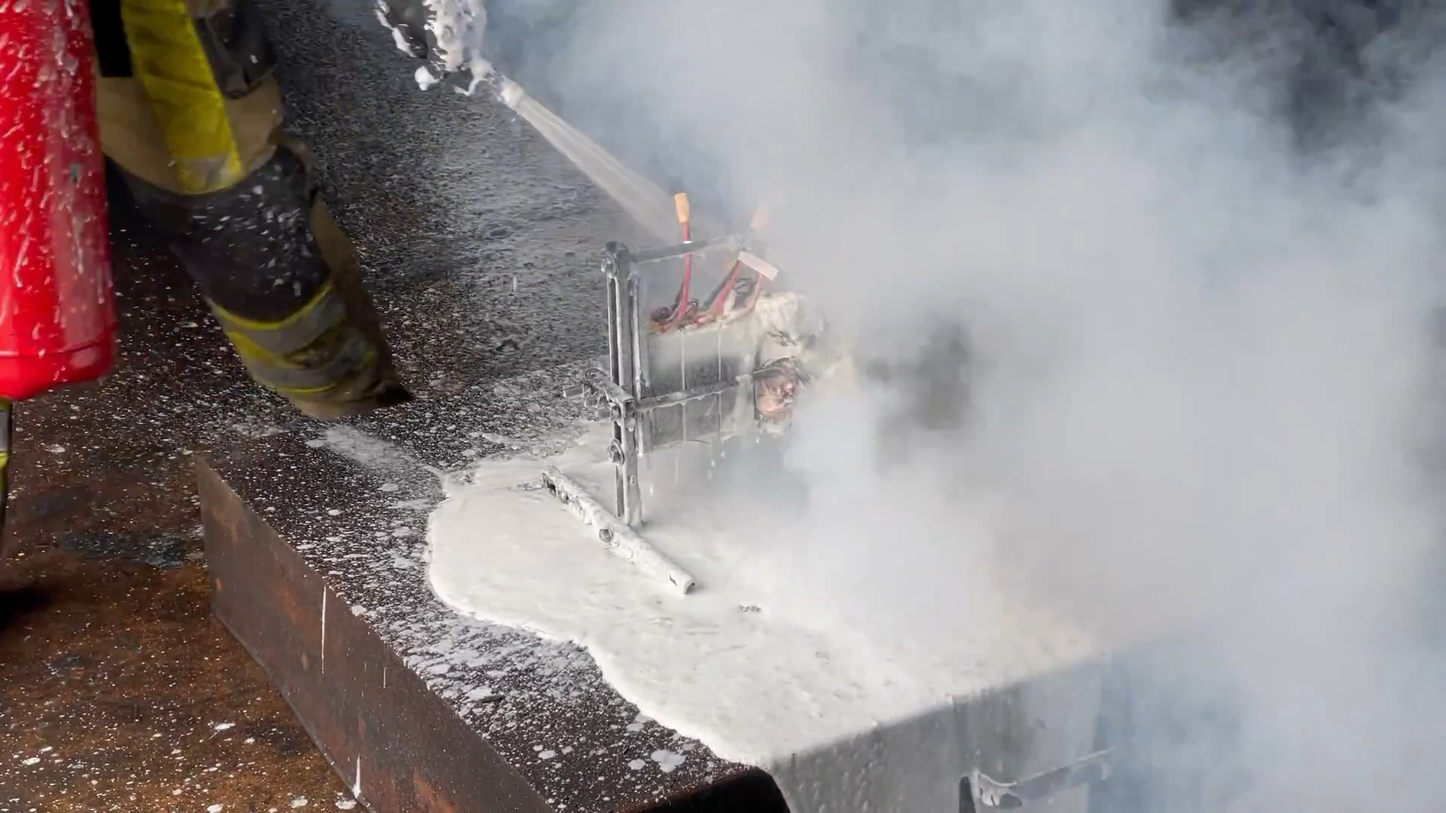smoke: (567, 38, 1430, 748)
